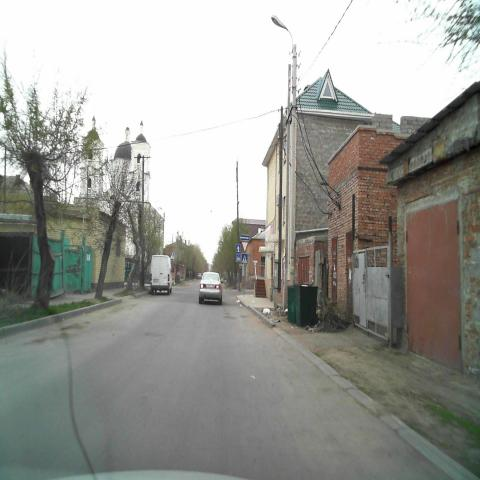2_4: (241, 242, 248, 252)
5_19_1: (242, 253, 248, 264), (171, 252, 175, 260), (236, 253, 240, 260)
5_5: (236, 244, 241, 251)
5_7_1: (240, 234, 250, 241)
